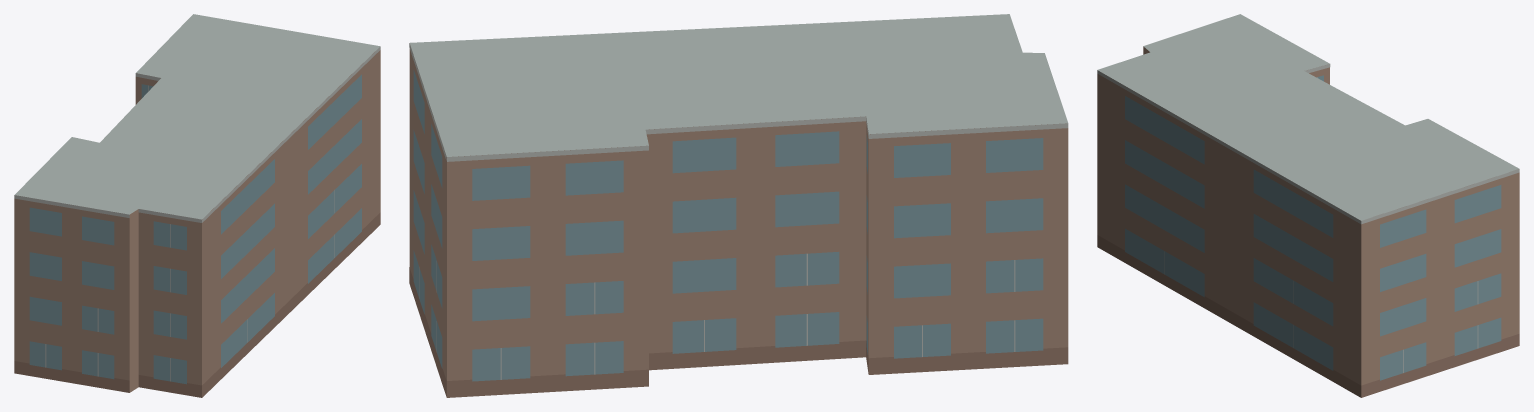
Rendered from survey-upis-32529093.glb.
3 renders of one model, left to right at view 1: azimuth 30°, elevation 25°; view 2: azimuth 150°, elevation 25°; view 3: azimuth 270°, elevation 25°, orthographic. The views are drawn at different scales.
Parts seen in each view (by area): view 1: survey-upis-32529093.tmp; view 2: survey-upis-32529093.tmp; view 3: survey-upis-32529093.tmp.
Boxes of the visible parts, <box> form: survey-upis-32529093.tmp: <box>14,14,380,397</box>; survey-upis-32529093.tmp: <box>409,14,1068,397</box>; survey-upis-32529093.tmp: <box>1097,14,1519,397</box>.
Bounding box in the file's own units: 30.58 × 12.2 × 26.39.
